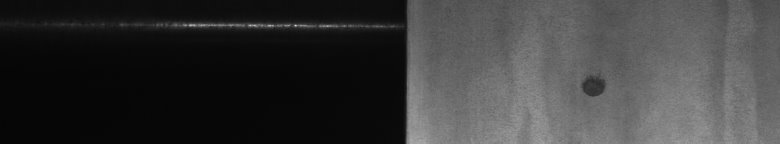fi: (576, 72, 612, 104)
